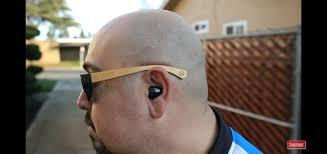earphone: (146, 82, 163, 100)
